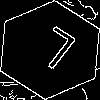L: (25, 25, 79, 79)
